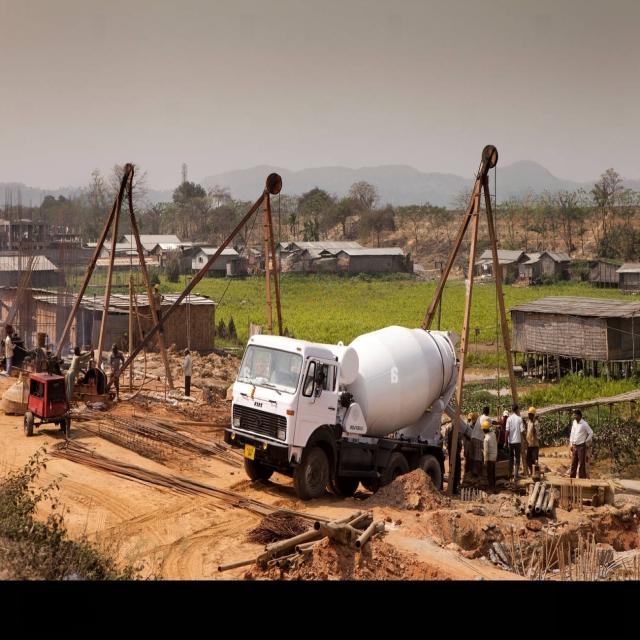truck: (225, 326, 459, 499)
